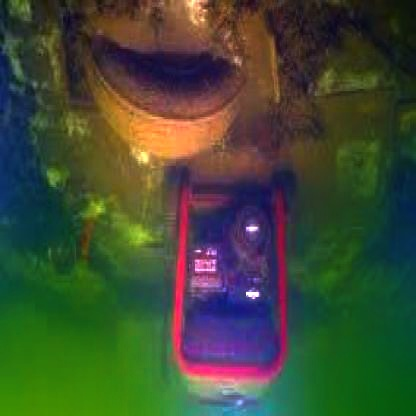misc: (176, 166, 293, 402)
